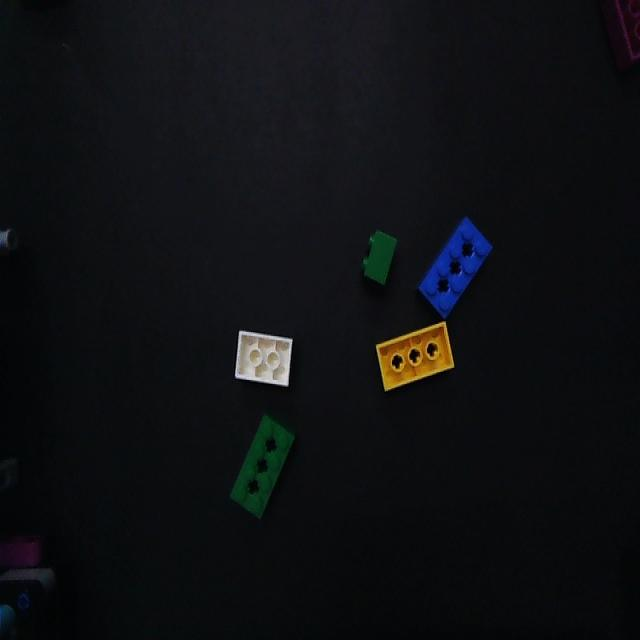lego_brick: (419, 217, 491, 319), (233, 416, 292, 516), (377, 321, 453, 389), (236, 331, 291, 384), (363, 231, 396, 284)
